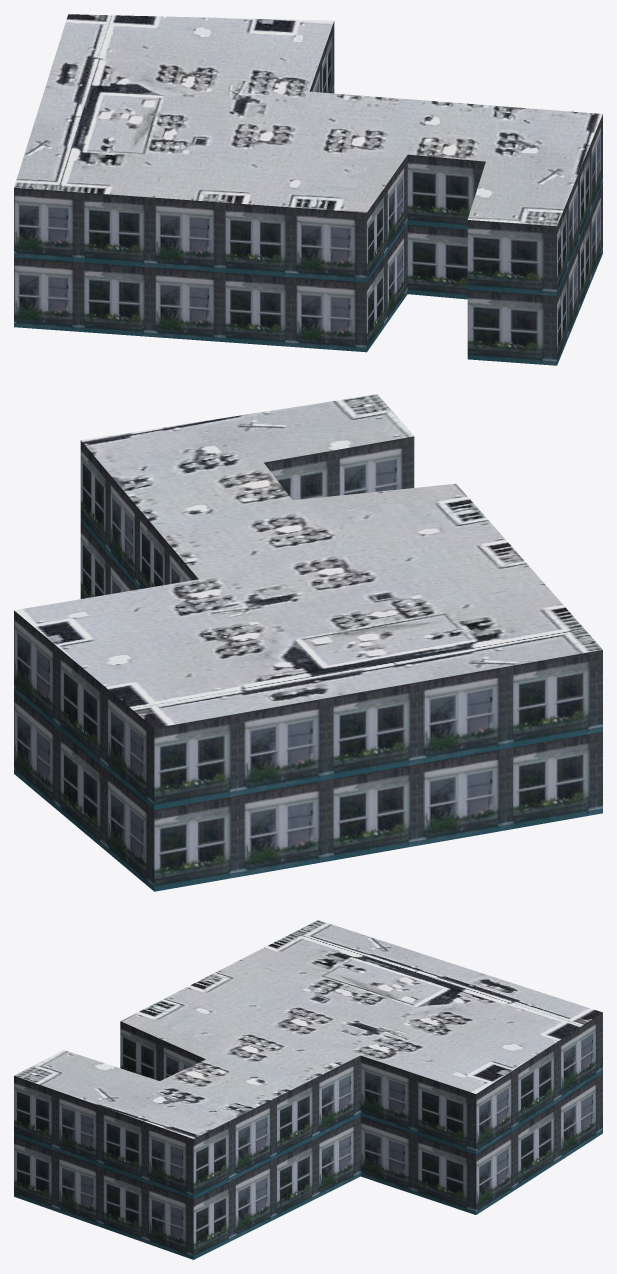
File: ResTex__668.fbx
3 renders of one model, top to bottom at view 1: azimuth 30°, elevation 25°; view 2: azimuth 150°, elevation 25°; view 3: azimuth 270°, elevation 25°, orthographic. The views are drawn at different scales.
Parts seen in each view (by area): view 1: CityEngineMaterial_11_m, CityEngineMaterial_8_m; view 2: CityEngineMaterial_11_m, CityEngineMaterial_8_m; view 3: CityEngineMaterial_11_m, CityEngineMaterial_8_m.
Part boxes in pixels (bbox=[...]): CityEngineMaterial_11_m: bbox=[14, 21, 602, 365]; CityEngineMaterial_8_m: bbox=[14, 14, 602, 226]; CityEngineMaterial_11_m: bbox=[14, 436, 602, 891]; CityEngineMaterial_8_m: bbox=[14, 394, 602, 728]; CityEngineMaterial_11_m: bbox=[14, 1012, 602, 1259]; CityEngineMaterial_8_m: bbox=[14, 920, 602, 1138].
Size of the model in its own units: 23.28 by 6 by 26.47.
2 materials, 2 textured.
